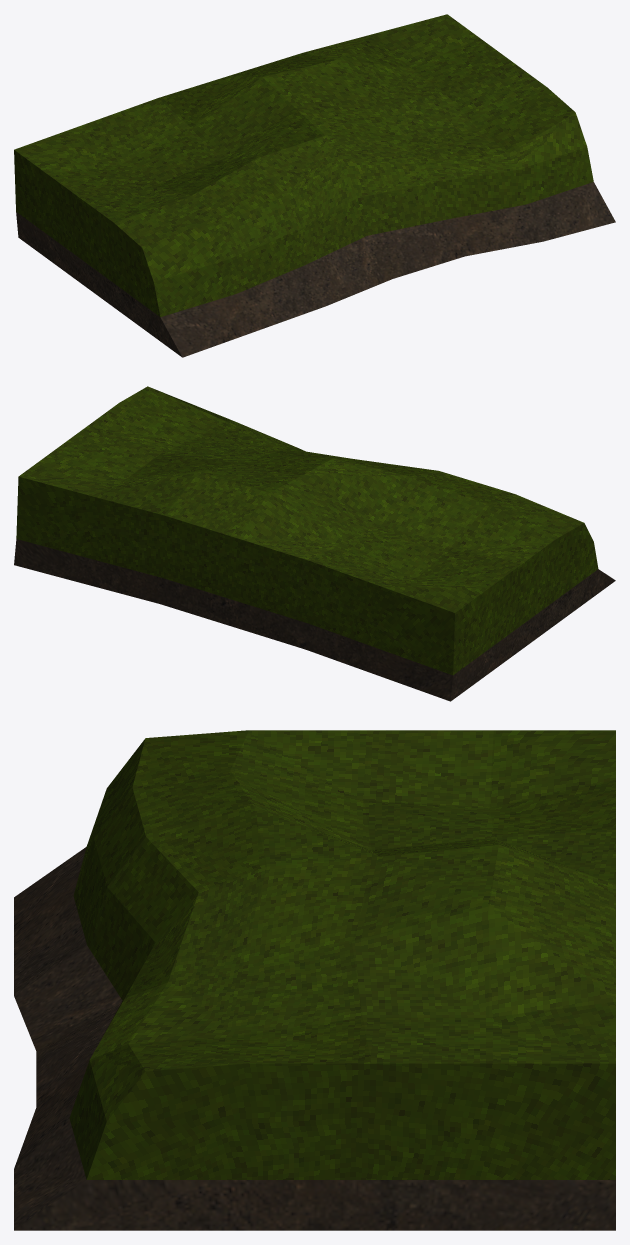
Rendered from ground3.fbx.
3 renders of one model, top to bottom at view 1: azimuth 30°, elevation 25°; view 2: azimuth 150°, elevation 25°; view 3: azimuth 270°, elevation 25°, orthographic. The views are drawn at different scales.
Visible parts, largest first — view 1: HighGround3; view 2: HighGround3; view 3: HighGround3.
Boxes of the visible parts, <box> form: HighGround3: <box>14,14,615,357</box>; HighGround3: <box>14,386,615,701</box>; HighGround3: <box>14,730,615,1230</box>.
Size of the model in its own units: 1810 by 528 by 1175.
